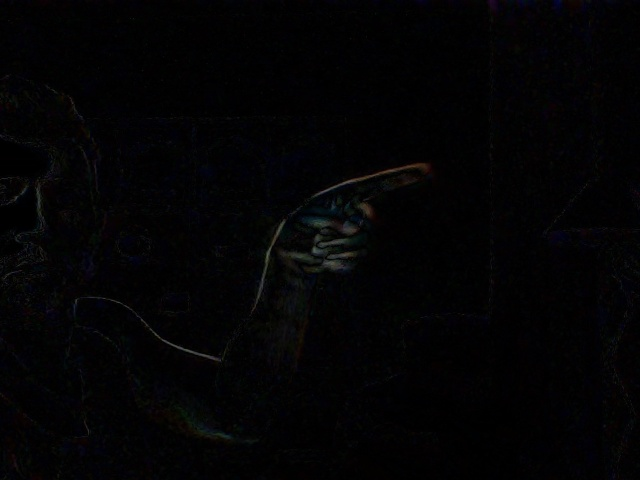hand_po: (267, 148, 448, 282)
